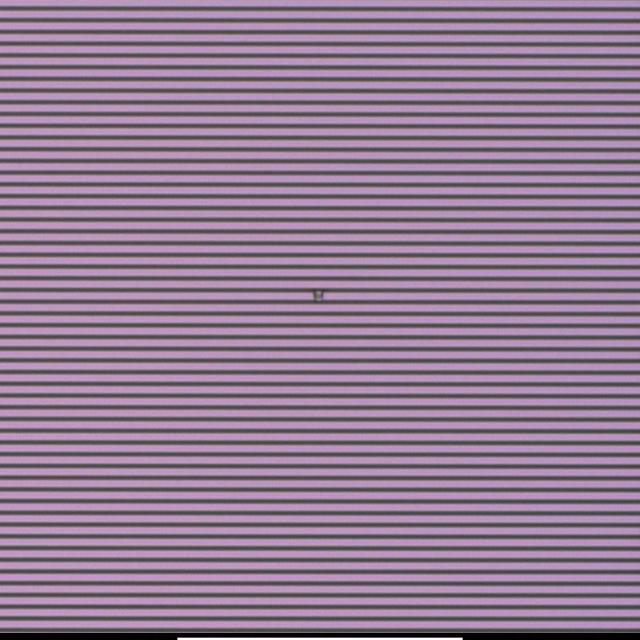03_intrusion: (312, 286, 327, 304)
